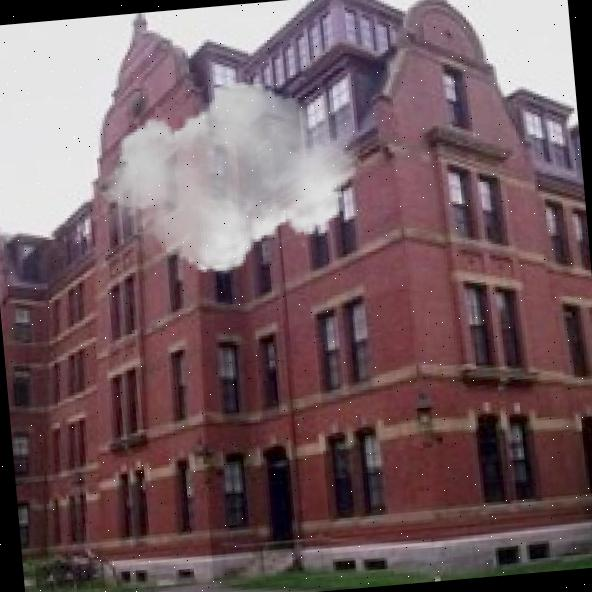smoke: (90, 64, 370, 289)
